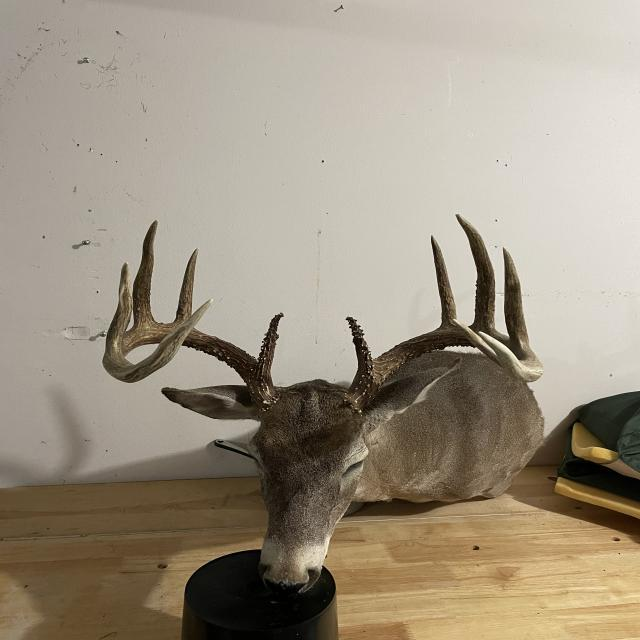L-G1: (345, 316, 377, 374)
L-G2: (431, 234, 458, 330)
R-G1: (252, 312, 284, 375)
